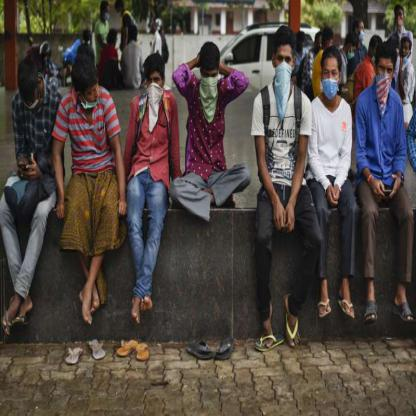Wearing_Mask: (271, 35, 297, 97), (371, 50, 399, 103), (198, 48, 221, 111), (319, 48, 340, 100), (81, 68, 101, 118), (145, 65, 165, 108), (392, 5, 406, 28)
